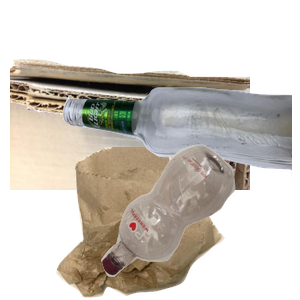cardboard: (10, 57, 250, 237)
glass: (60, 84, 300, 260)
plastic: (99, 142, 300, 300)
trash: (54, 147, 271, 300)
